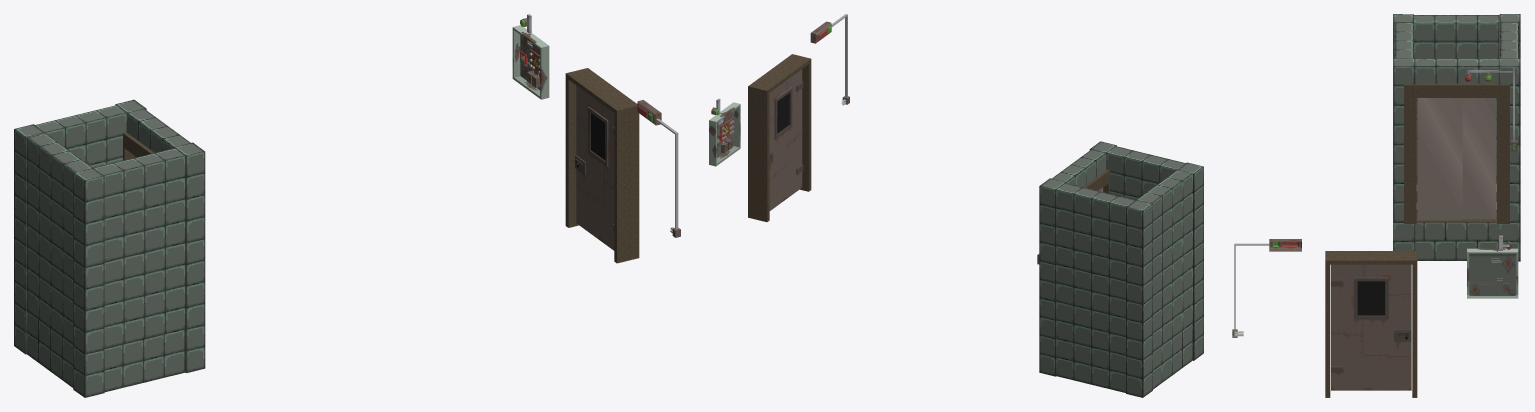
The model's file is obj_powerFuseBox.fbx.
3 views of the same model, side by side, from view 1: azimuth 30°, elevation 25°; view 2: azimuth 150°, elevation 25°; view 3: azimuth 270°, elevation 25° (orthographic). The views are drawn at different scales.
Visible parts, largest first — view 1: obj_elevator, obj_doorframe, obj_door, obj_powerFuseBox, obj_doorLight; view 2: obj_elevator, obj_doorframe, obj_door, obj_powerFuseBox, obj_doorLight; view 3: obj_elevator, obj_door, obj_elevator_door2, obj_elevator_door1, obj_doorframe, obj_powerFuseBox, obj_doorLight.
Boxes of the visible parts, bbox=[...] form: obj_elevator: bbox=[14, 99, 205, 397]; obj_doorframe: bbox=[565, 68, 639, 263]; obj_door: bbox=[575, 85, 614, 250]; obj_powerFuseBox: bbox=[512, 14, 549, 99]; obj_doorLight: bbox=[637, 100, 680, 237]; obj_elevator: bbox=[1037, 141, 1203, 397]; obj_doorframe: bbox=[748, 54, 811, 222]; obj_door: bbox=[769, 69, 803, 210]; obj_powerFuseBox: bbox=[709, 98, 740, 166]; obj_doorLight: bbox=[810, 14, 849, 105]; obj_elevator: bbox=[1393, 14, 1520, 261]; obj_door: bbox=[1331, 264, 1411, 390]; obj_elevator_door2: bbox=[1417, 98, 1462, 219]; obj_elevator_door1: bbox=[1462, 98, 1496, 218]; obj_doorframe: bbox=[1325, 251, 1417, 397]; obj_powerFuseBox: bbox=[1467, 235, 1518, 298]; obj_doorLight: bbox=[1232, 239, 1301, 337].
Bounding box in the file's own units: 626 × 252 × 337.
